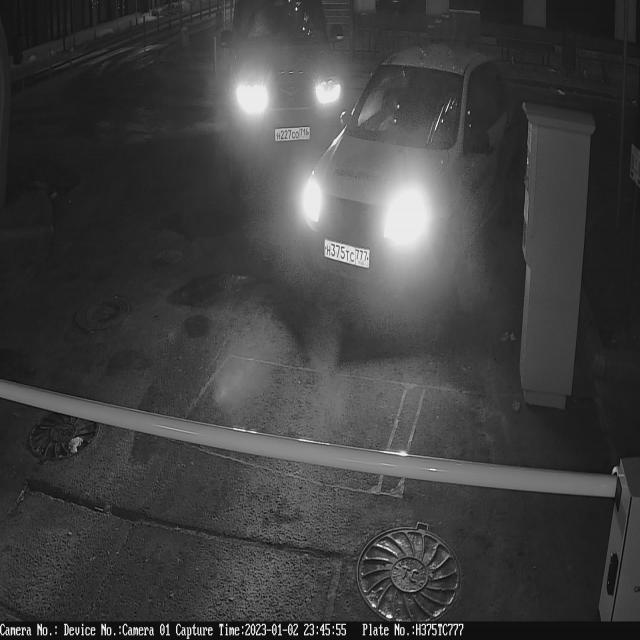car-plate-numbers: (322, 236, 375, 273)
